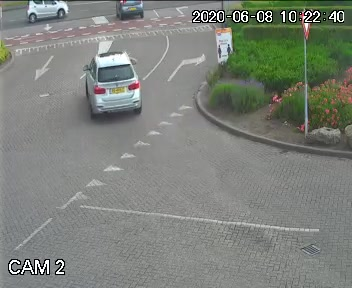car: (78, 41, 163, 130), (21, 0, 77, 32), (110, 0, 142, 22)
